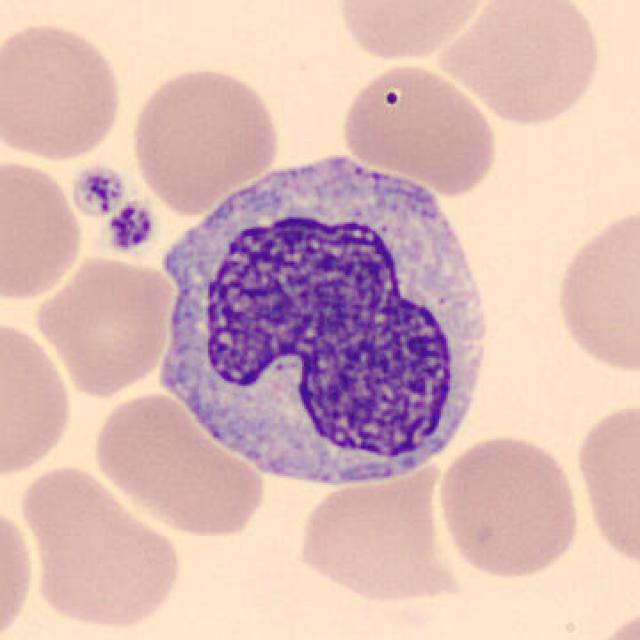Monocyte: (144, 136, 508, 504)
Platelets: (69, 160, 128, 218), (105, 202, 156, 255)
RBC: (14, 460, 187, 635), (89, 388, 268, 539), (294, 460, 462, 607), (125, 62, 282, 213), (434, 430, 583, 582), (336, 60, 501, 194), (436, 0, 606, 129), (32, 252, 180, 399), (0, 16, 126, 164), (549, 200, 640, 378), (0, 152, 87, 303), (0, 315, 76, 479), (570, 395, 640, 573), (331, 0, 494, 65), (0, 501, 39, 638), (588, 604, 638, 640)
